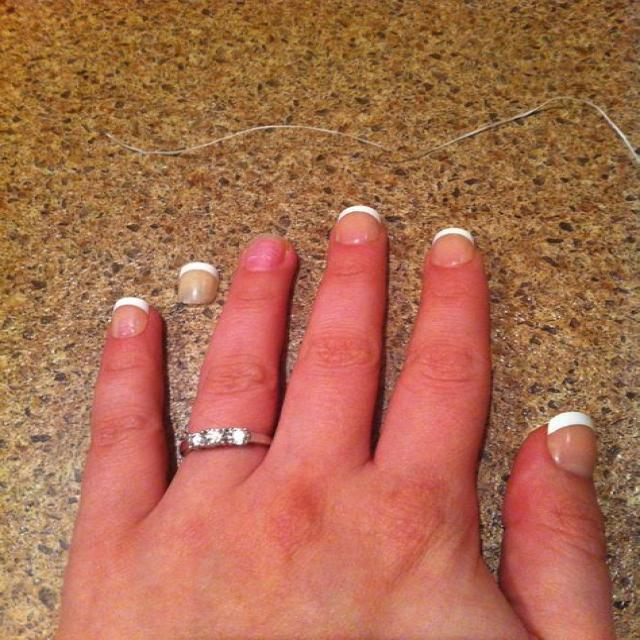Fingernail: (548, 412, 597, 480), (336, 206, 381, 244), (432, 228, 474, 268), (112, 297, 149, 339), (245, 237, 286, 272)
